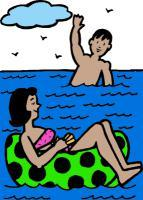person: (6, 87, 142, 184), (66, 13, 116, 87)
